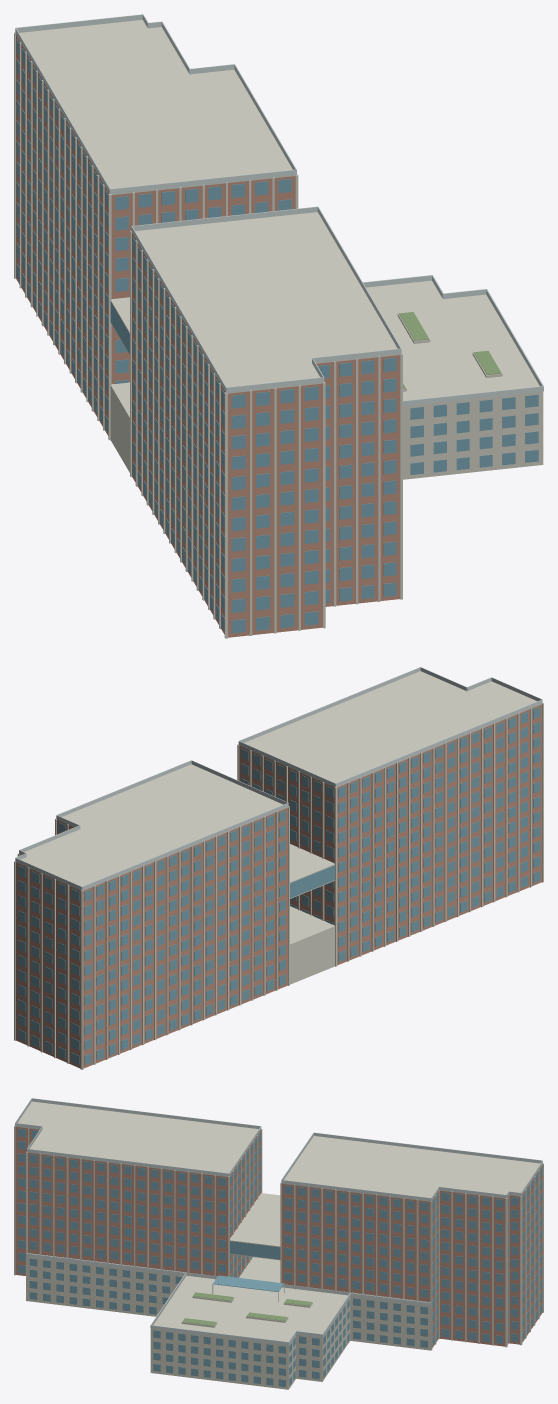
File: blockz.glb
3 views of the same model, one above another, from view 1: azimuth 30°, elevation 25°; view 2: azimuth 150°, elevation 25°; view 3: azimuth 270°, elevation 25° (orthographic). The views are drawn at different scales.
Parts seen in each view (by area): view 1: DETAIL_window_batch_Z_blue_glass, Z_south_wing, DETAIL_window_batch_Z_pale_piers, Z_south_roof, Z_north_roof, Z_low_teaching_block, Z_north_wing, Z_courtyard_podium, Z_north_roof_guard_5, Z_south_roof_guard_4, Z_platform_guard_6, Z_north_roof_guard_7 (+2 smaller); view 2: DETAIL_window_batch_Z_blue_glass, Z_north_wing, Z_south_wing, DETAIL_window_batch_Z_pale_piers, Z_south_roof, Z_north_roof, Z_courtyard_podium, Z_north_roof_guard_6, Z_south_roof_guard_3, Z_link_roof, Z_south_roof_guard_5, Z_sky_link (+1 smaller); view 3: DETAIL_window_batch_Z_blue_glass, Z_low_teaching_block, Z_north_wing, Z_south_wing, DETAIL_window_batch_Z_pale_piers, Z_south_roof, Z_north_roof, Z_link_roof, Z_north_roof_guard_6, Z_south_roof_guard_3, Z_courtyard_podium, Z_south_roof_guard_5 (+6 smaller).
Part boxes in pixels (x1,y1,x2,y2): DETAIL_window_batch_Z_blue_glass: (16, 39, 538, 633); Z_south_wing: (132, 233, 399, 637); DETAIL_window_batch_Z_pale_piers: (14, 32, 402, 638); Z_south_roof: (132, 212, 399, 393); Z_north_roof: (16, 20, 295, 195); Z_low_teaching_block: (366, 280, 543, 479); Z_north_wing: (16, 35, 295, 435); Z_courtyard_podium: (110, 382, 129, 472); Z_north_roof_guard_5: (110, 169, 296, 194); Z_south_roof_guard_4: (132, 206, 317, 230); Z_platform_guard_6: (403, 386, 543, 406); Z_north_roof_guard_7: (16, 14, 142, 32); DETAIL_window_batch_Z_blue_glass: (18, 707, 540, 1064); Z_north_wing: (16, 808, 287, 1068); Z_south_wing: (239, 704, 541, 965); DETAIL_window_batch_Z_pale_piers: (14, 703, 543, 1069); Z_south_roof: (239, 671, 541, 787); Z_north_roof: (16, 764, 287, 890); Z_courtyard_podium: (290, 906, 334, 984); Z_north_roof_guard_6: (82, 803, 288, 890); Z_south_roof_guard_3: (336, 699, 542, 787); Z_link_roof: (290, 844, 334, 883); Z_south_roof_guard_5: (239, 667, 420, 742); Z_sky_link: (290, 865, 334, 898); DETAIL_window_batch_Z_blue_glass: (18, 1128, 542, 1386); Z_low_teaching_block: (27, 1256, 430, 1389); Z_north_wing: (282, 1165, 542, 1347); Z_south_wing: (15, 1127, 260, 1277); DETAIL_window_batch_Z_pale_piers: (14, 1125, 543, 1350); Z_south_roof: (15, 1101, 260, 1176); Z_north_roof: (282, 1136, 541, 1201); Z_link_roof: (230, 1193, 280, 1247); Z_north_roof_guard_6: (314, 1132, 542, 1163); Z_south_roof_guard_3: (32, 1098, 260, 1128); Z_courtyard_podium: (239, 1257, 280, 1282); Z_south_roof_guard_5: (27, 1149, 228, 1176).
Bounding box in the file's own units: 97.12 × 49 × 155.
